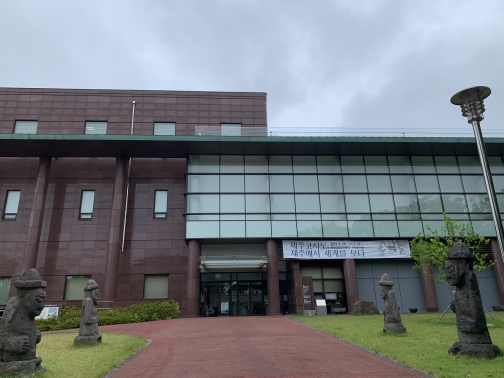Museum: (100, 90, 500, 331)
